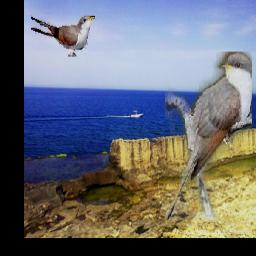Cuckoo: (166, 52, 253, 220), (31, 15, 95, 57)
